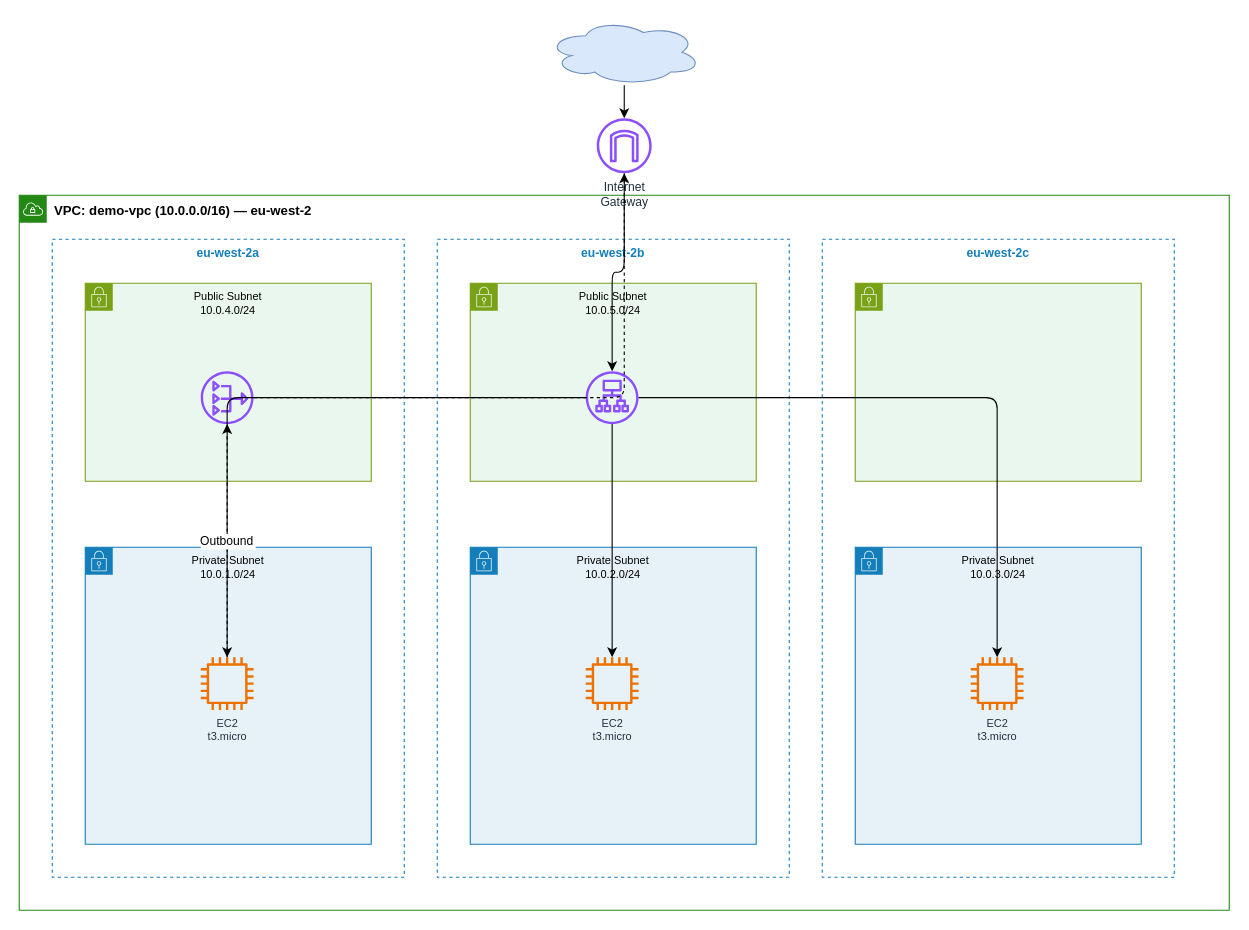
The diagram is 1249 pixels wide and 930 high, and some of its shapes have lost their labels. Here are the shapes that lost their labels. From the top down, the centre of each, then its label:
the point at 623,51: Internet
the point at 226,397: NAT GW
the point at 611,397: ALB
the point at 997,381: Public Subnet 10.0.6.0/24
